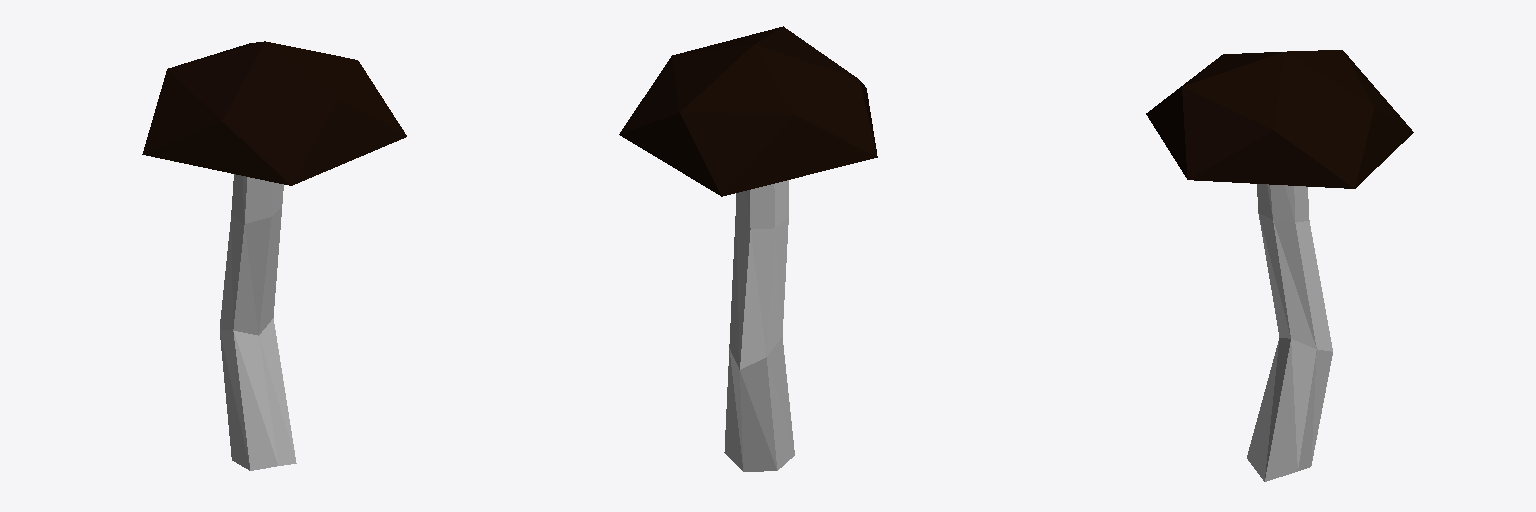
The model's file is mushroom_3.obj.
The picture shows the model from 3 angles: view 1: azimuth 30°, elevation 25°; view 2: azimuth 150°, elevation 25°; view 3: azimuth 270°, elevation 25°; orthographic projection.
Parts seen in each view (by area): view 1: mushroom_3; view 2: mushroom_3; view 3: mushroom_3.
Boxes of the visible parts, x1=… form: mushroom_3: x1=142, y1=41, x2=406, y2=470; mushroom_3: x1=619, y1=26, x2=877, y2=471; mushroom_3: x1=1146, y1=50, x2=1413, y2=481.
Size of the model in its own units: 0.2569 by 0.4618 by 0.2671.